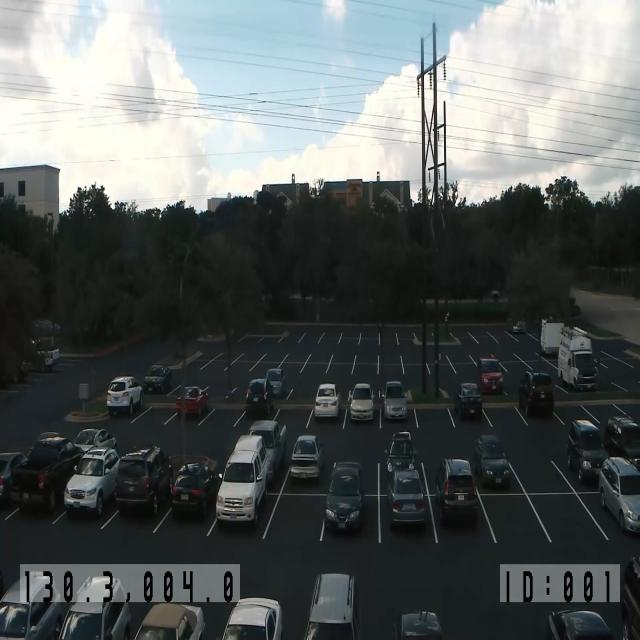car: (9, 431, 84, 514), (216, 434, 270, 527), (58, 574, 131, 640), (0, 570, 62, 639), (114, 445, 172, 516), (64, 447, 120, 518), (304, 572, 360, 640), (598, 456, 640, 533), (434, 458, 478, 526), (324, 461, 365, 532), (221, 596, 283, 640), (170, 460, 217, 518), (566, 419, 609, 482), (133, 602, 204, 639), (248, 420, 287, 482), (387, 467, 426, 527), (0, 600, 53, 640), (473, 433, 511, 488), (548, 608, 613, 640), (58, 602, 104, 640), (606, 414, 640, 464), (620, 556, 640, 640), (518, 371, 554, 416), (106, 375, 144, 417), (290, 434, 323, 480), (384, 431, 417, 476), (75, 574, 126, 603), (393, 610, 443, 639), (0, 451, 27, 503), (73, 427, 118, 455), (245, 378, 274, 416), (176, 385, 209, 418), (348, 382, 374, 422), (454, 382, 482, 419), (476, 356, 503, 394), (382, 381, 408, 420), (314, 383, 341, 419), (144, 364, 171, 394), (265, 368, 285, 398), (32, 318, 60, 335), (512, 319, 526, 333), (491, 290, 500, 300)
